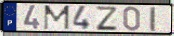0: (122, 6, 142, 32)
4: (72, 4, 92, 32), (22, 4, 41, 30)
I: (149, 6, 157, 33)
M: (42, 5, 71, 31)
Z: (94, 6, 119, 32)
